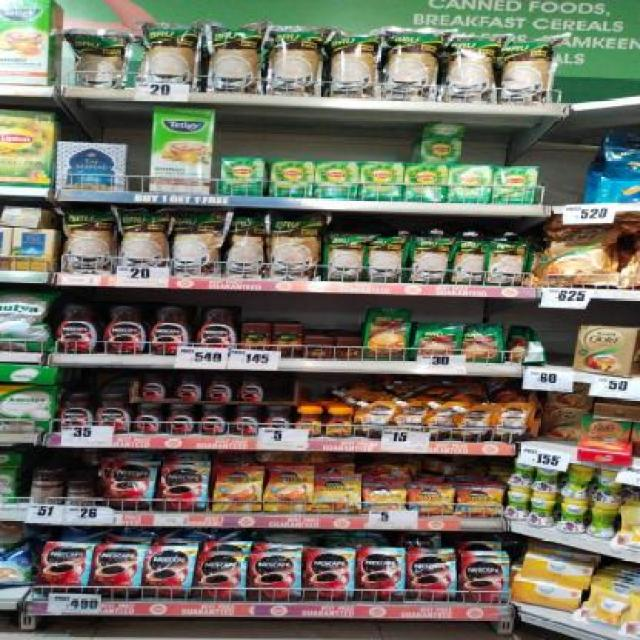Coffee: (40, 541, 91, 599), (93, 544, 142, 600), (143, 546, 194, 599), (306, 550, 356, 601), (359, 549, 406, 602), (407, 554, 456, 603), (250, 554, 302, 600), (196, 552, 244, 600), (108, 462, 155, 510), (159, 465, 207, 512), (264, 466, 313, 512), (460, 556, 508, 602), (216, 466, 262, 512), (104, 306, 148, 354), (56, 304, 98, 354), (195, 307, 237, 355), (150, 306, 190, 356), (314, 473, 360, 513), (408, 484, 454, 516), (456, 489, 504, 517), (96, 395, 130, 433), (60, 394, 92, 432), (363, 486, 406, 514), (262, 408, 292, 438), (324, 408, 354, 437), (199, 405, 227, 435), (132, 405, 160, 433), (166, 405, 194, 433), (230, 407, 258, 435), (296, 408, 322, 437), (205, 376, 232, 402), (238, 375, 264, 402), (140, 374, 166, 400), (174, 375, 201, 400)
